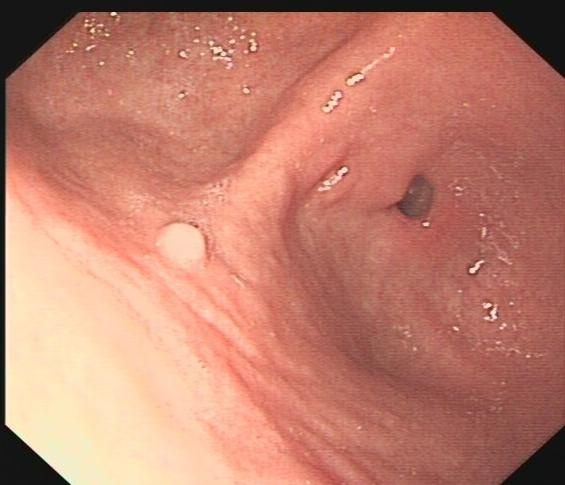Polyp: (146, 215, 217, 277)
